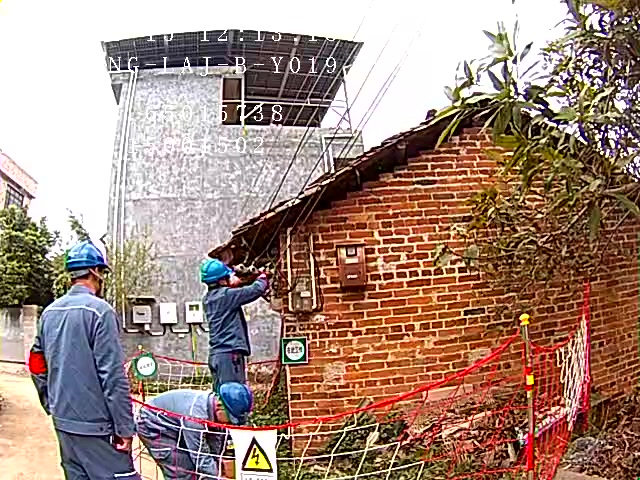halt: (67, 245, 114, 288), (217, 384, 256, 426), (205, 263, 238, 289)
